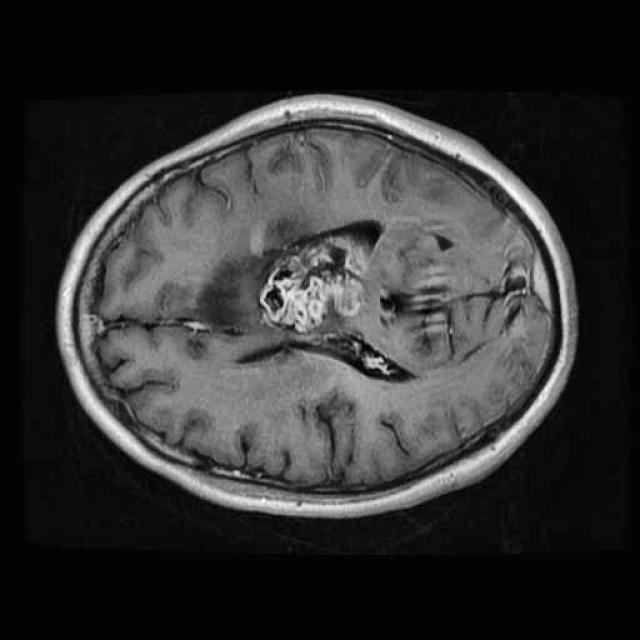Tumor: (182, 222, 386, 348)
